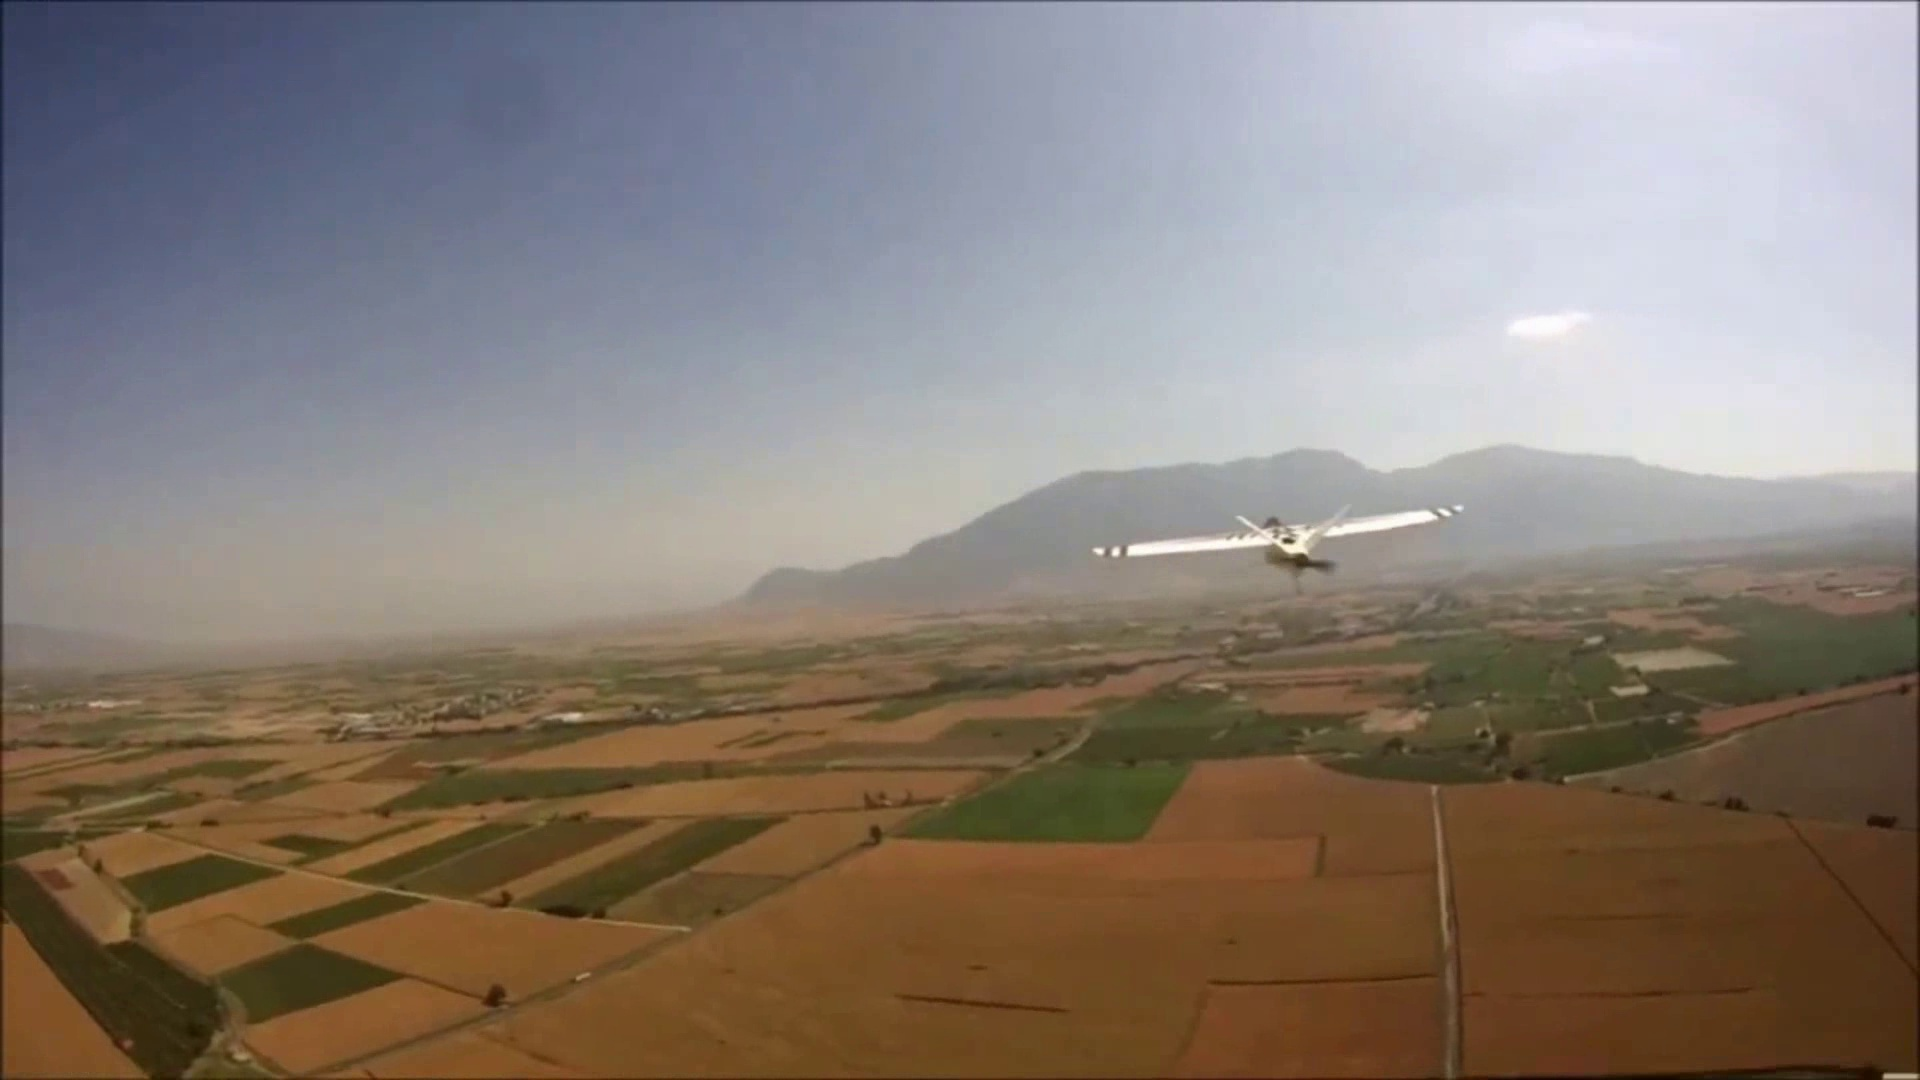airplane: (1095, 502, 1459, 571)
